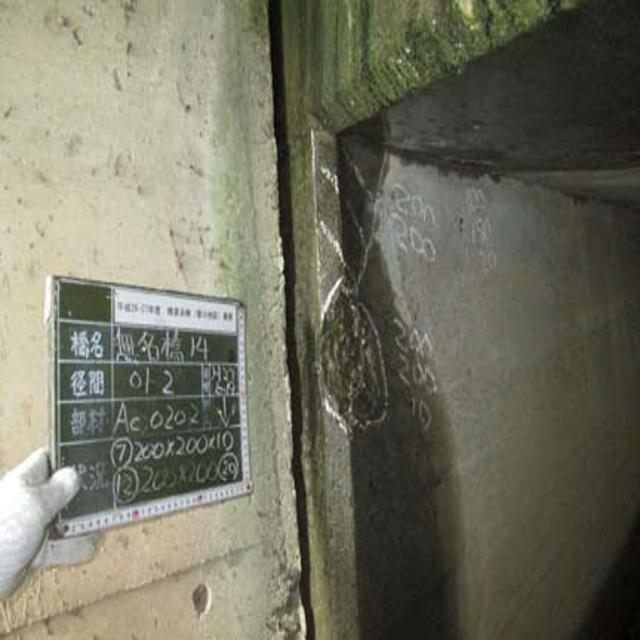spalling: (308, 282, 396, 437)
